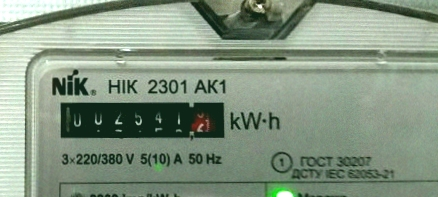0: (70, 107, 83, 128), (91, 105, 103, 126)
1: (172, 104, 183, 127)
2: (111, 104, 125, 126)
4: (152, 104, 163, 125)
5: (131, 104, 144, 128)
6: (194, 120, 205, 132)
screen: (47, 91, 236, 146)
